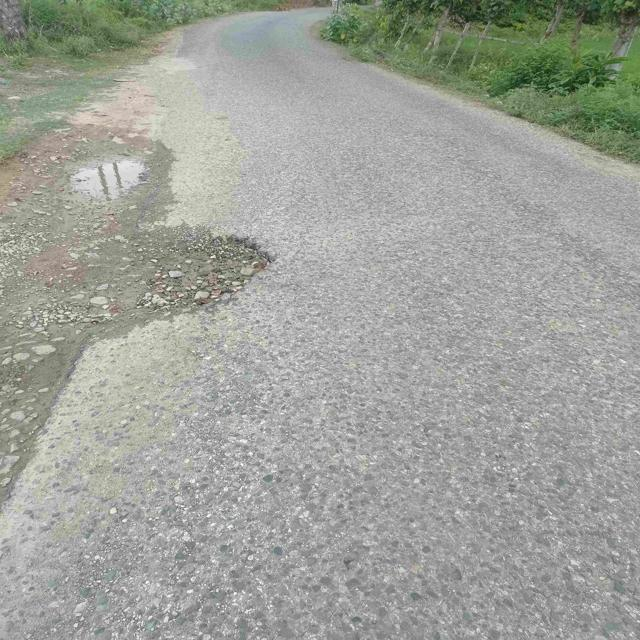Pinggir: (28, 220, 277, 393)
